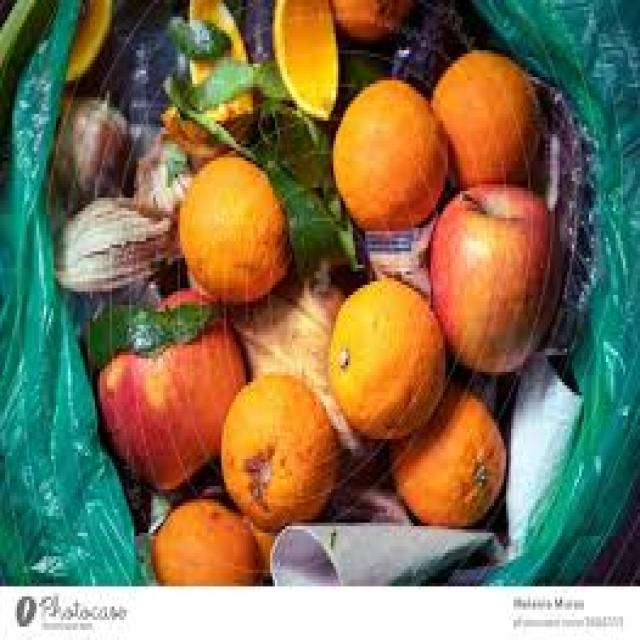biodegradable: (460, 74, 579, 426), (222, 262, 380, 483), (92, 282, 246, 493), (426, 181, 557, 365), (214, 372, 341, 523), (329, 74, 448, 228), (329, 278, 441, 439), (387, 379, 501, 526), (173, 151, 287, 291), (431, 47, 540, 188), (49, 201, 180, 288), (263, 154, 360, 265), (51, 91, 139, 198), (129, 127, 197, 265), (105, 14, 192, 121), (168, 71, 251, 178), (151, 499, 260, 580), (270, 0, 340, 117), (387, 0, 479, 87), (185, 0, 253, 114), (261, 98, 339, 195), (80, 301, 224, 352), (158, 97, 258, 161), (61, 0, 126, 84), (329, 37, 394, 100), (326, 469, 409, 516), (363, 228, 436, 281), (161, 7, 231, 57), (329, 0, 414, 40), (124, 476, 175, 529), (244, 513, 283, 580), (233, 0, 272, 60), (190, 60, 253, 97), (246, 60, 285, 97), (192, 463, 231, 493)
paper: (504, 342, 577, 560), (268, 519, 504, 583), (365, 221, 431, 282), (540, 131, 557, 204)
plastic: (475, 0, 638, 583), (0, 0, 141, 580)
